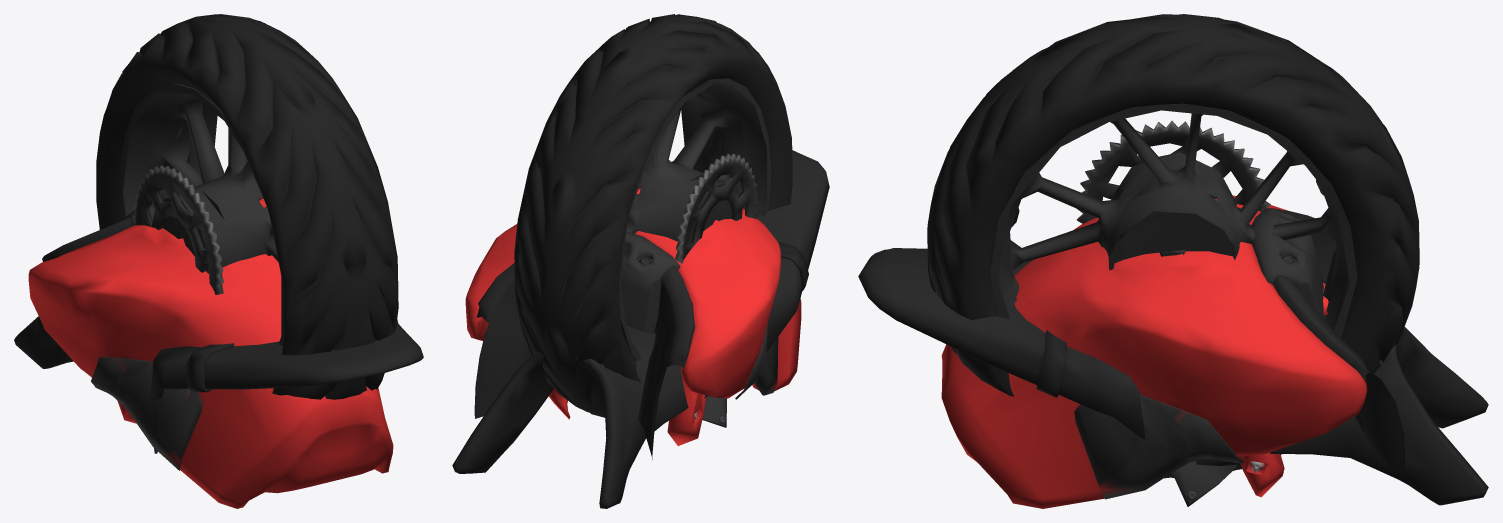
The model's file is StreetThree_Items.fbx.
3 views of the same model, side by side, from view 1: azimuth 30°, elevation 25°; view 2: azimuth 150°, elevation 25°; view 3: azimuth 270°, elevation 25° (orthographic). The views are drawn at different scales.
Visible parts, largest first — view 1: street_WI_Tire, street_WI_GasTank, street_WI_Seat; view 2: street_WI_Tire, street_WI_GasTank, street_WI_Seat, street_WI_FenderFront, street_WI_FenderRear; view 3: street_WI_Tire, street_WI_GasTank, street_WI_Seat, street_WI_FenderRear, street_WI_FenderFront.
Boxes of the visible parts, x1,y1,x2,y2 form: street_WI_Tire: (96,14,398,399); street_WI_GasTank: (28,193,393,508); street_WI_Seat: (14,316,423,400); street_WI_Tire: (514,14,792,417); street_WI_GasTank: (465,188,801,459); street_WI_Seat: (452,150,829,508); street_WI_FenderFront: (549,367,706,445); street_WI_FenderRear: (702,396,726,427); street_WI_Tire: (927,14,1419,478); street_WI_GasTank: (941,195,1405,508); street_WI_Seat: (858,248,1488,505); street_WI_FenderRear: (1171,461,1237,506); street_WI_FenderFront: (1238,283,1328,497).
Bounding box in the file's own units: 4.14 × 5.47 × 7.
